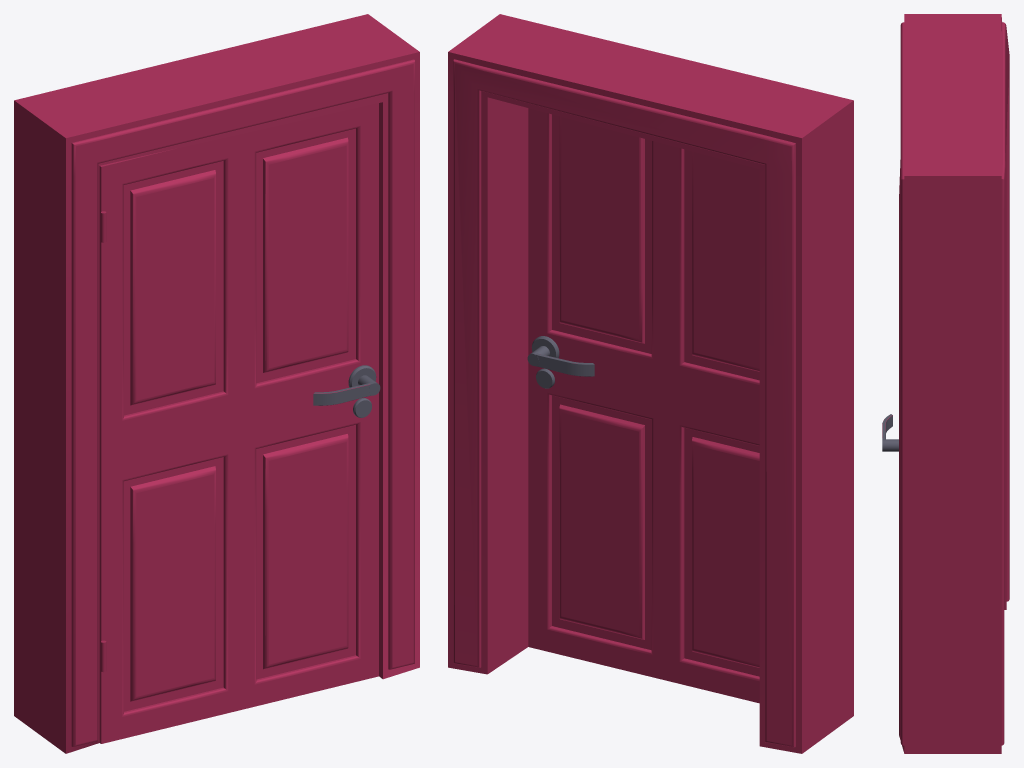
File: door.fbx
The picture shows the model from 3 angles, left to right: view 1: azimuth 30°, elevation 25°; view 2: azimuth 150°, elevation 25°; view 3: azimuth 270°, elevation 25°; orthographic projection. The views are drawn at different scales.
Parts seen in each view (by area): view 1: Door; view 2: Door; view 3: Door.
Boxes of the visible parts, x1=… form: Door: x1=14, y1=14, x2=419, y2=753; Door: x1=448, y1=14, x2=853, y2=753; Door: x1=882, y1=14, x2=1009, y2=753.
Size of the model in its own units: 2114 by 3513 by 703.
